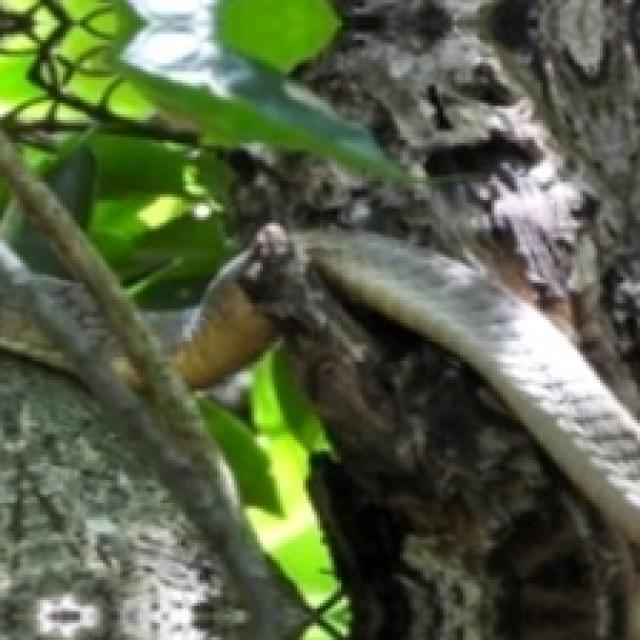king cobra: (294, 232, 640, 544), (0, 241, 135, 385), (144, 252, 280, 387), (0, 289, 74, 372)
